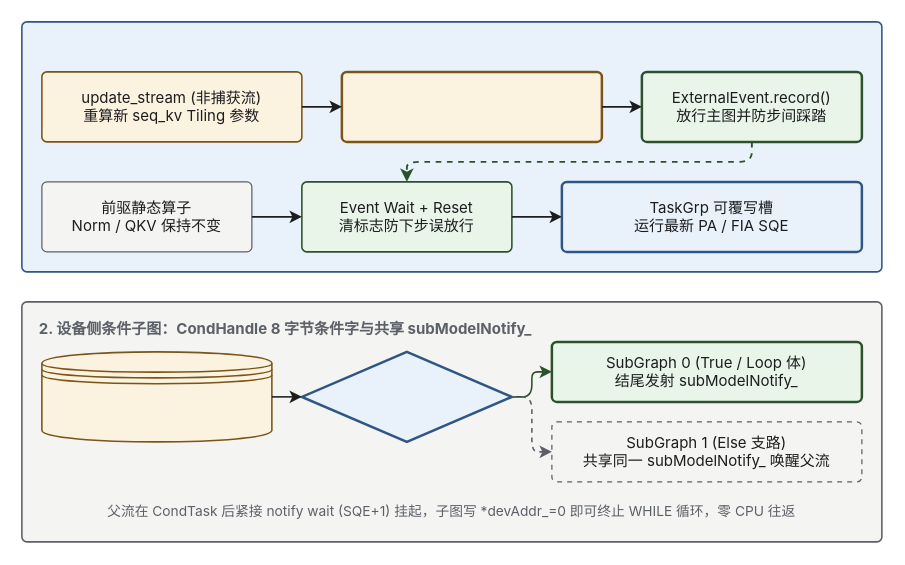
Image size: 905x565. Some labels were removed from this diagram. Each missing label, with the box of its shape:
1. 局部参数热更新：TaskGrp 划槽 + update_stream + ExternalEvent 护栏: (20, 20, 882, 272)
CondHandle (8B devAddr_) PreExecute H2D 复位默认值: (40, 350, 272, 442)
TaskUpdateBegin/End isUpdateSinkSqe=1 原地覆写: (340, 70, 602, 142)
TS CondTask IF / WHILE / SW: (300, 350, 512, 442)
